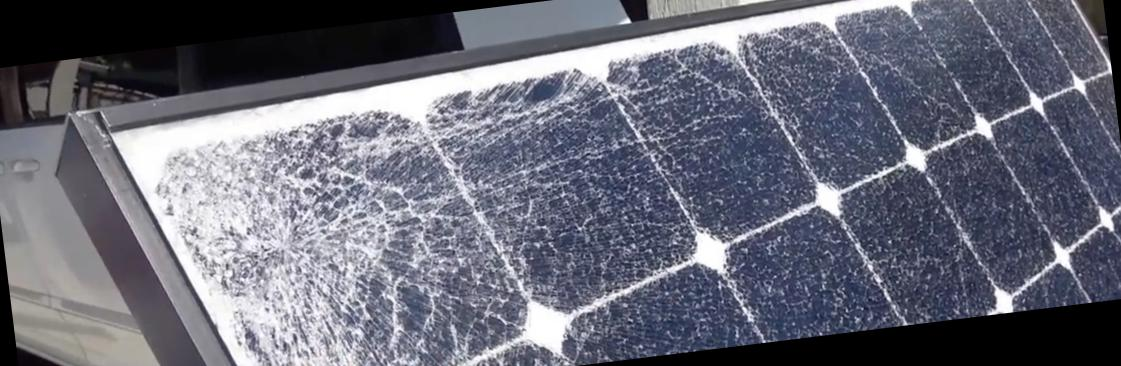Crack: (156, 97, 528, 365)
